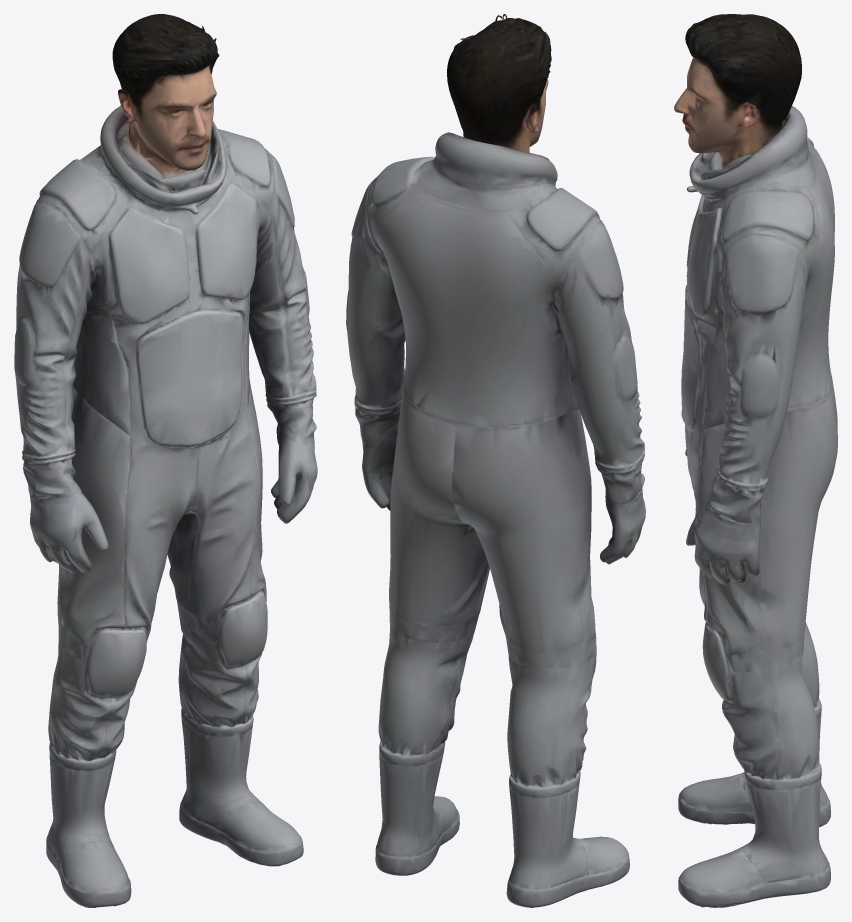
Rendered from lucas-web.glb.
3 renders of one model, left to right at view 1: azimuth 30°, elevation 25°; view 2: azimuth 150°, elevation 25°; view 3: azimuth 270°, elevation 25°, orthographic.
Parts seen in each view (by area): view 1: node_0; view 2: node_0; view 3: node_0.
Part boxes in pixels (bbox=[...]): node_0: bbox=[14, 14, 317, 907]; node_0: bbox=[346, 14, 645, 907]; node_0: bbox=[674, 14, 837, 907].
Size of the model in its own units: 0.4102 by 1.15 by 0.2052.
1 material, 1 textured.
